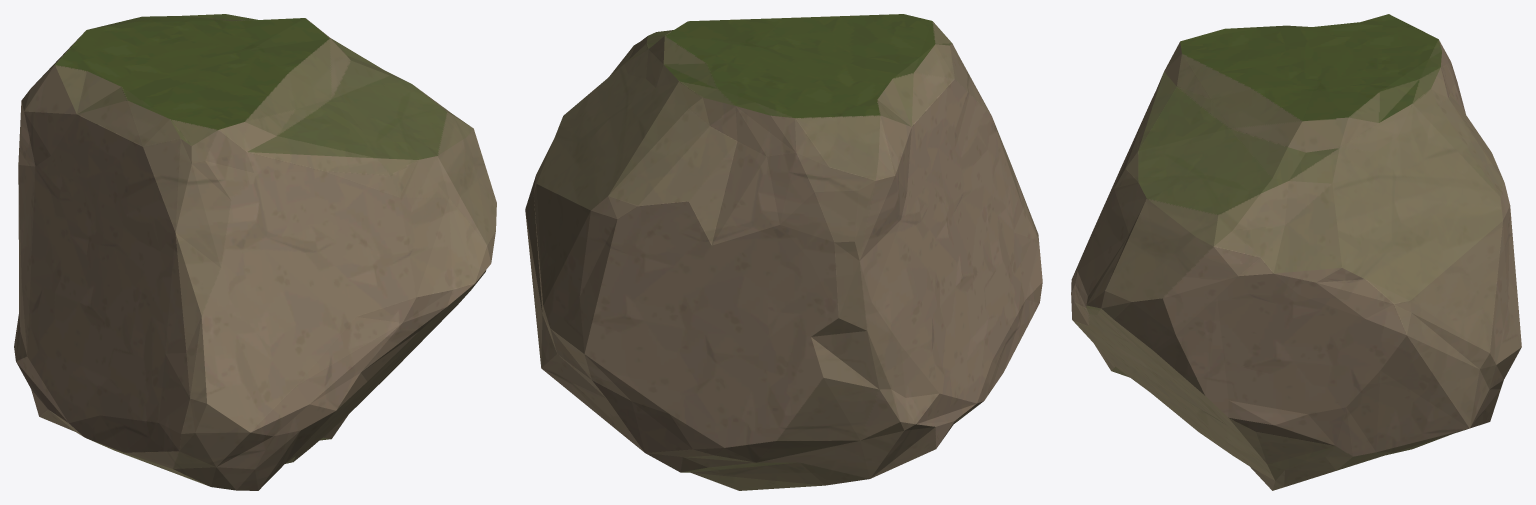
The model's file is SM_Env_Rock_04.glb.
The picture shows the model from 3 angles, left to right: view 1: azimuth 30°, elevation 25°; view 2: azimuth 150°, elevation 25°; view 3: azimuth 270°, elevation 25°; orthographic projection. The views are drawn at different scales.
Parts seen in each view (by area): view 1: SM_Env_Rock_04; view 2: SM_Env_Rock_04; view 3: SM_Env_Rock_04.
Boxes of the visible parts, left/top/right/bottom form: SM_Env_Rock_04: left=14, top=14, right=496, bottom=490; SM_Env_Rock_04: left=525, top=14, right=1042, bottom=490; SM_Env_Rock_04: left=1071, top=14, right=1521, bottom=490.
Size of the model in its own units: 3.29 by 3.27 by 3.48.
Materials: 1 (1 with a texture image).
